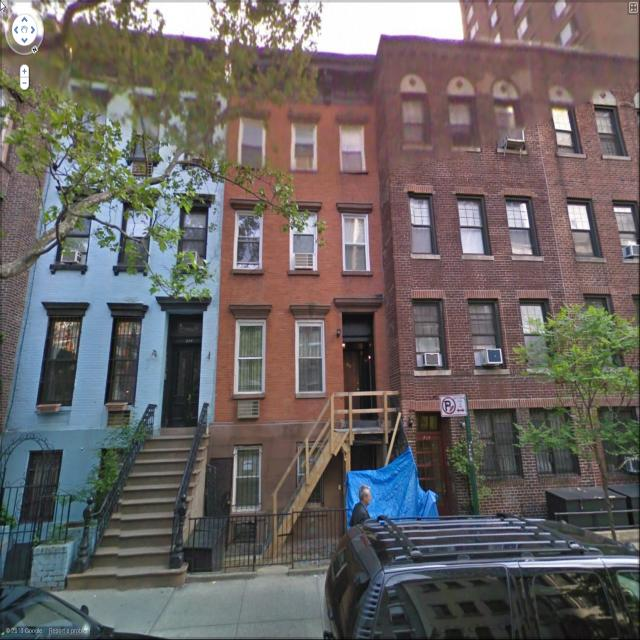b_1: (378, 40, 576, 496)
b_2: (10, 25, 228, 540), (225, 44, 386, 538), (541, 56, 640, 508), (461, 2, 638, 69)
